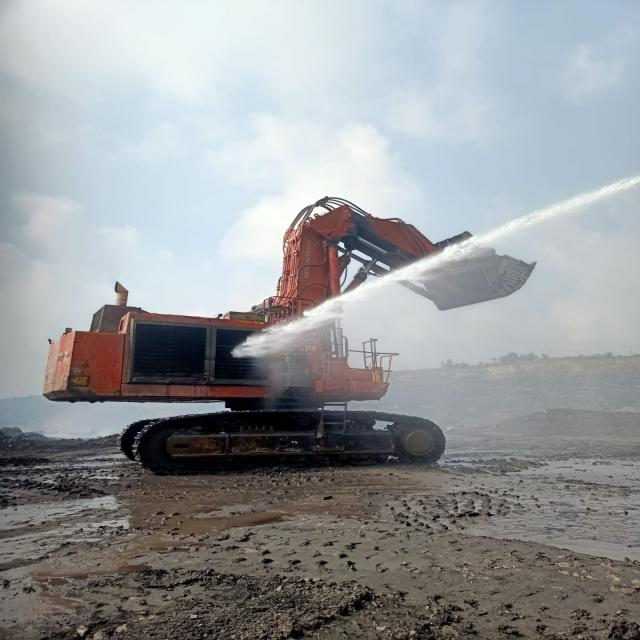excavator: (36, 193, 535, 466)
